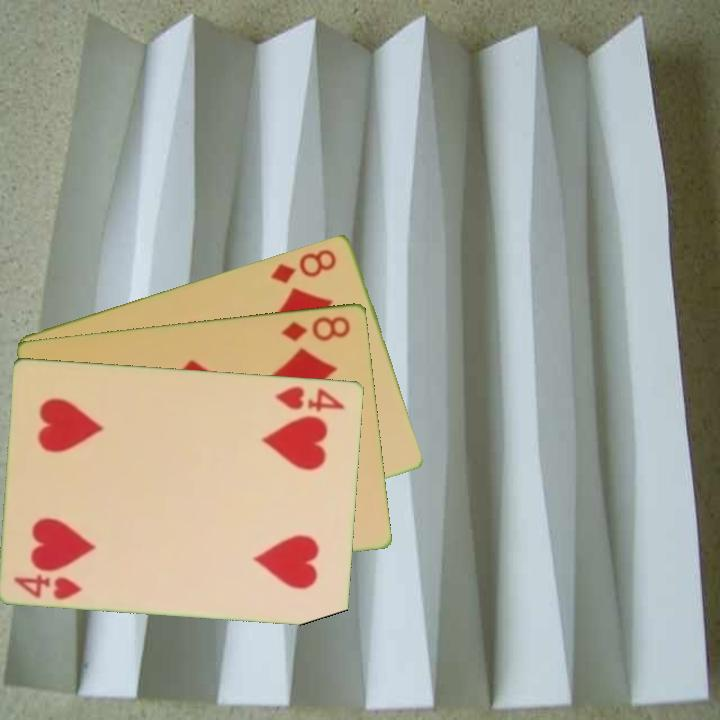4h: (10, 570, 86, 602), (272, 382, 347, 414)
8d: (267, 245, 340, 286), (278, 312, 354, 344)
